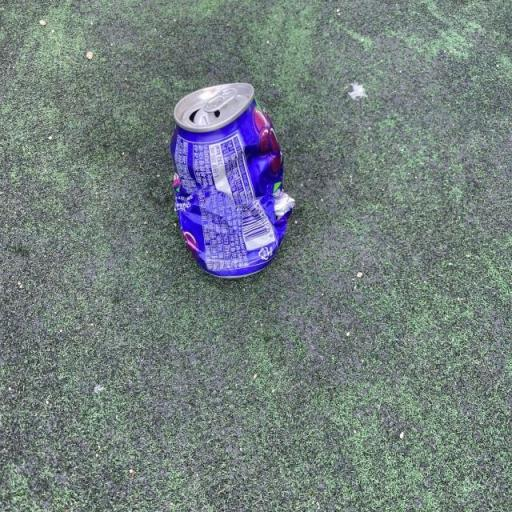metal: (164, 64, 306, 297)
